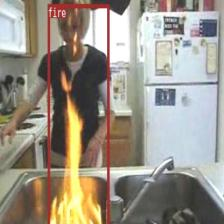fire: (47, 3, 108, 224)
